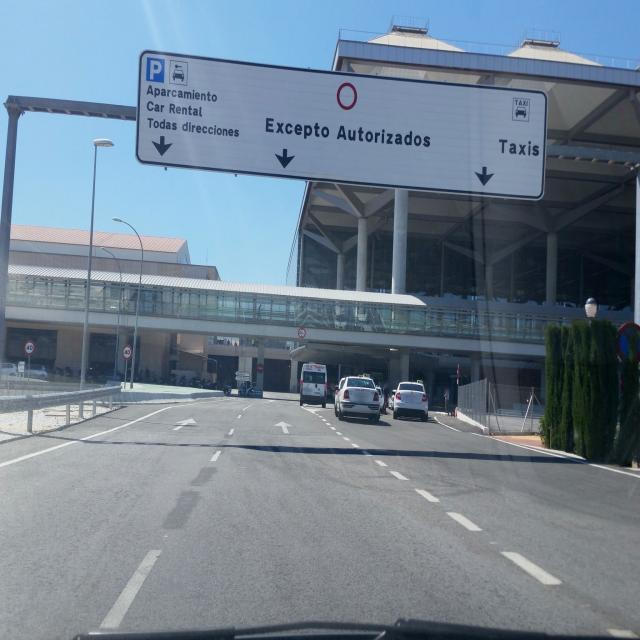car: (334, 375, 380, 423), (391, 380, 428, 421), (300, 363, 328, 408), (379, 385, 394, 412)
